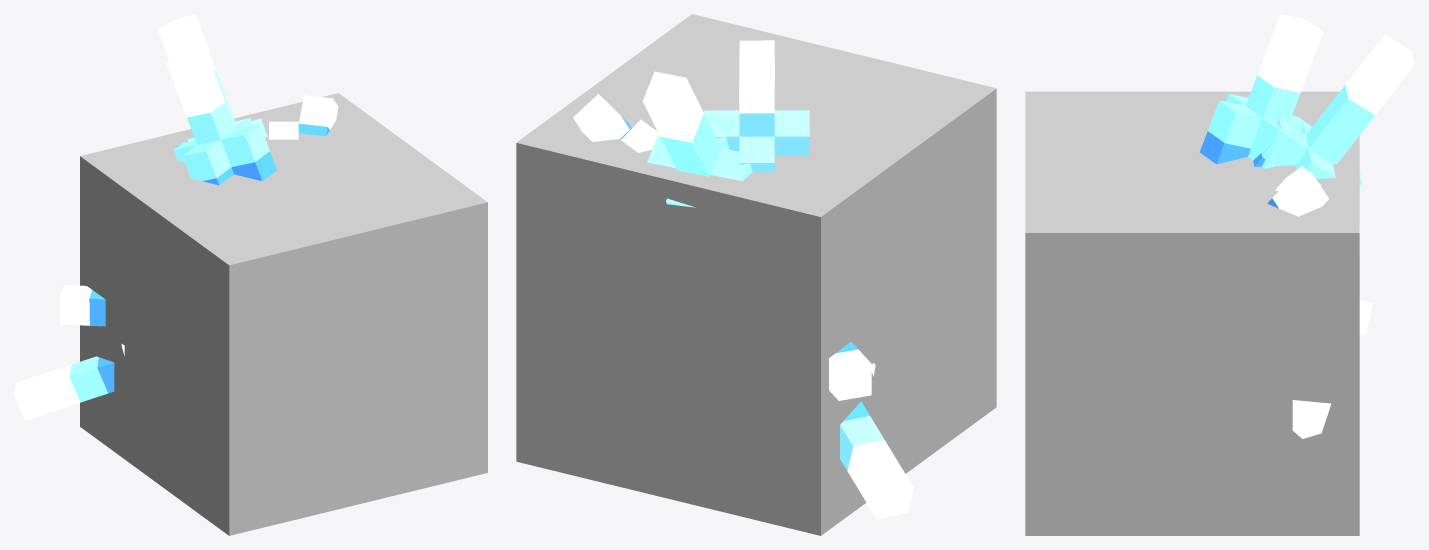
File: vfx_dragon_bite.glb
3 views of the same model, side by side, from view 1: azimuth 30°, elevation 25°; view 2: azimuth 150°, elevation 25°; view 3: azimuth 270°, elevation 25° (orthographic). The views are drawn at different scales.
Visible parts, largest first — view 1: Cube, Shard6, Shard0, Shard17, Shard2, Shard15, Shard11; view 2: Cube, Shard17, Shard6, Shard0, Shard2, Shard15, Shard11; view 3: Cube, Shard6, Shard17, Shard15, Shard20.
Boxes of the visible parts, x1,y1,x2,y2 form: Cube: (80,93,487,535); Shard6: (166,47,276,185); Shard0: (14,356,114,420); Shard17: (157,14,267,147); Shard2: (60,285,105,326); Shard15: (298,95,338,136); Shard11: (269,121,298,139); Cube: (516,14,996,535); Shard17: (642,71,753,207); Shard6: (704,40,809,172); Shard0: (840,401,913,519); Shard2: (829,341,871,400); Shard15: (573,94,631,141); Shard11: (621,119,659,152); Cube: (1025,91,1359,535); Shard6: (1199,14,1323,168); Shard17: (1253,34,1414,185); Shard15: (1267,172,1328,216); Shard20: (1292,400,1331,438).
Bounding box in the file's own units: 2.67 × 2.78 × 2.33.
